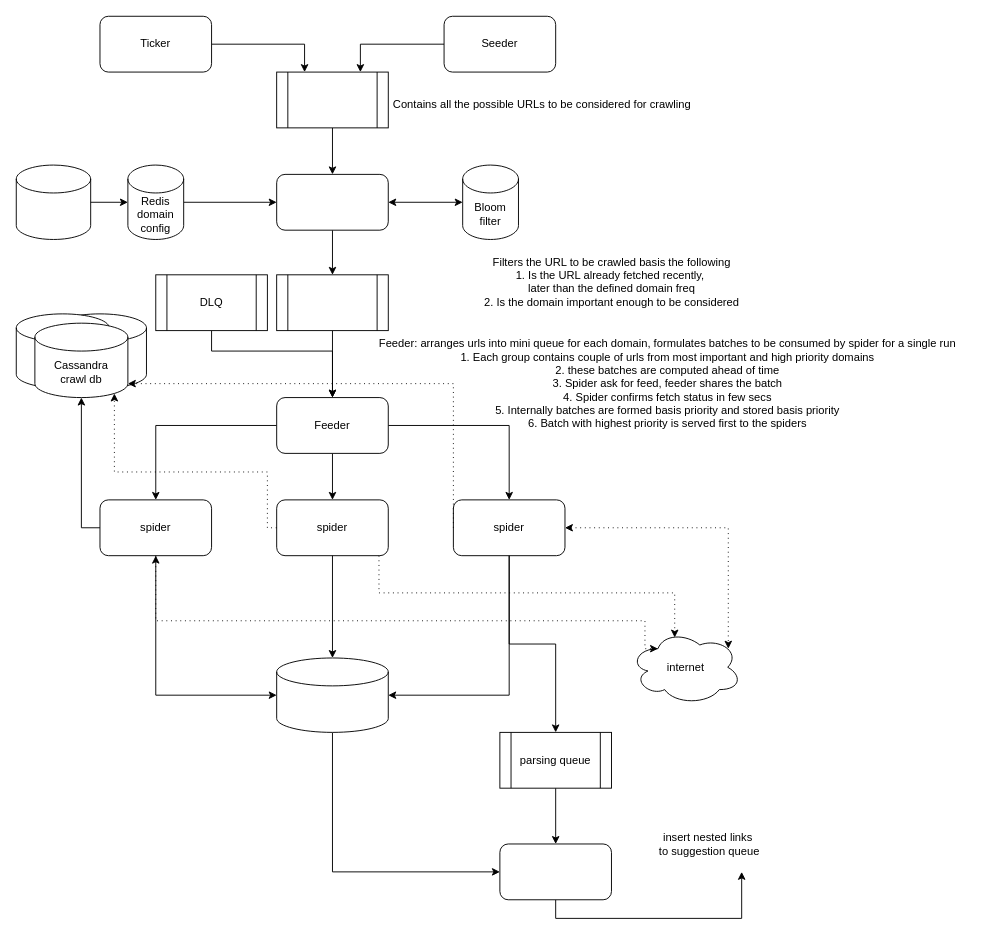
The diagram is 981 pixels wide and 942 high, and some of its shapes have lost their labels. The shapes that lost their labels are listed below. From the top down, each one's box as (x1, y1, x2, y2) in pixels, then its label:
(276, 71, 388, 128): suggestion queue
(15, 164, 91, 239): domain config postgres DB
(276, 173, 388, 230): filter
(276, 274, 388, 331): filtered suggestions enriched with importance
(276, 657, 388, 732): object store
(499, 843, 611, 900): parser
